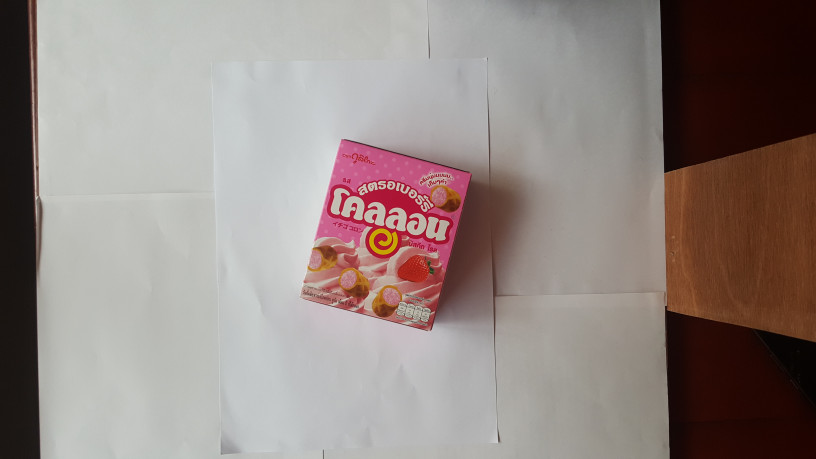collon-strawberry: (297, 137, 477, 334)
